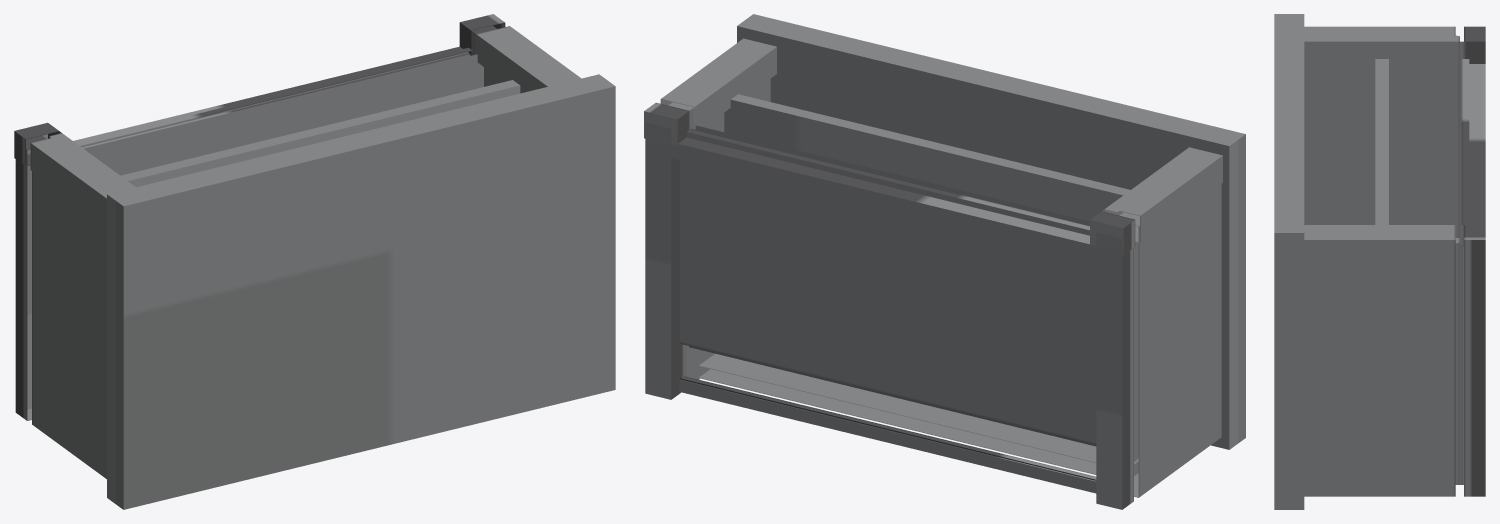
3 views of the same model, side by side, from view 1: azimuth 30°, elevation 25°; view 2: azimuth 150°, elevation 25°; view 3: azimuth 270°, elevation 25° (orthographic). The views are drawn at different scales.
Size of the model in its own units: 0.95 by 0.56 by 0.387.
